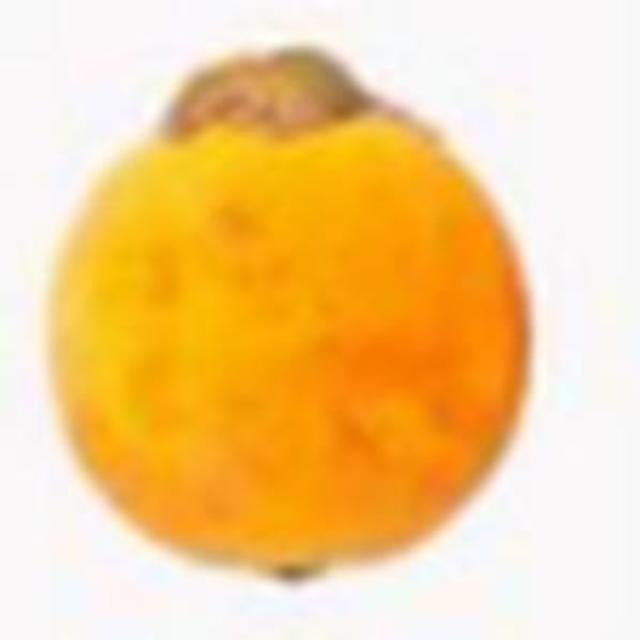good: (43, 49, 533, 584)
